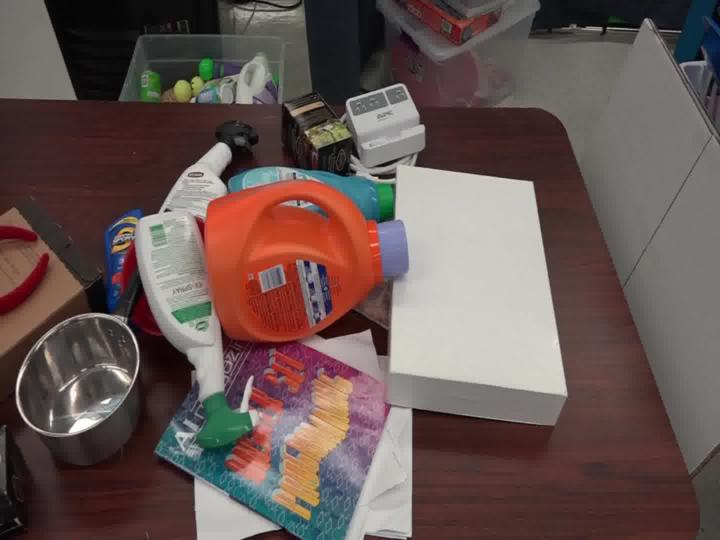tide: (179, 156, 412, 342)
